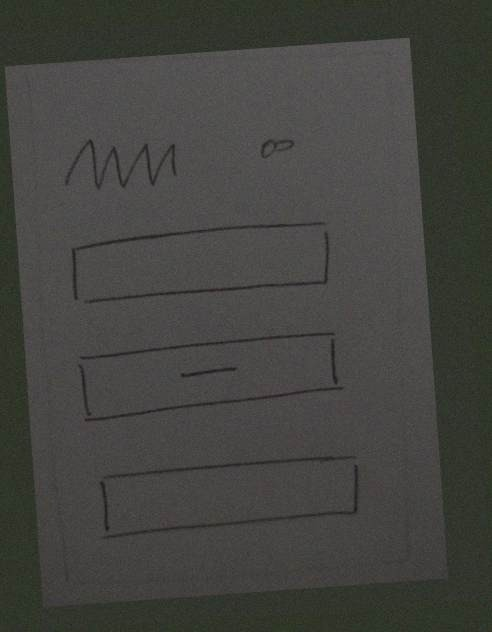button: (65, 325, 354, 426)
switch: (244, 123, 308, 169)
text: (52, 124, 188, 200)
text_input: (61, 213, 343, 317), (91, 443, 372, 546)
